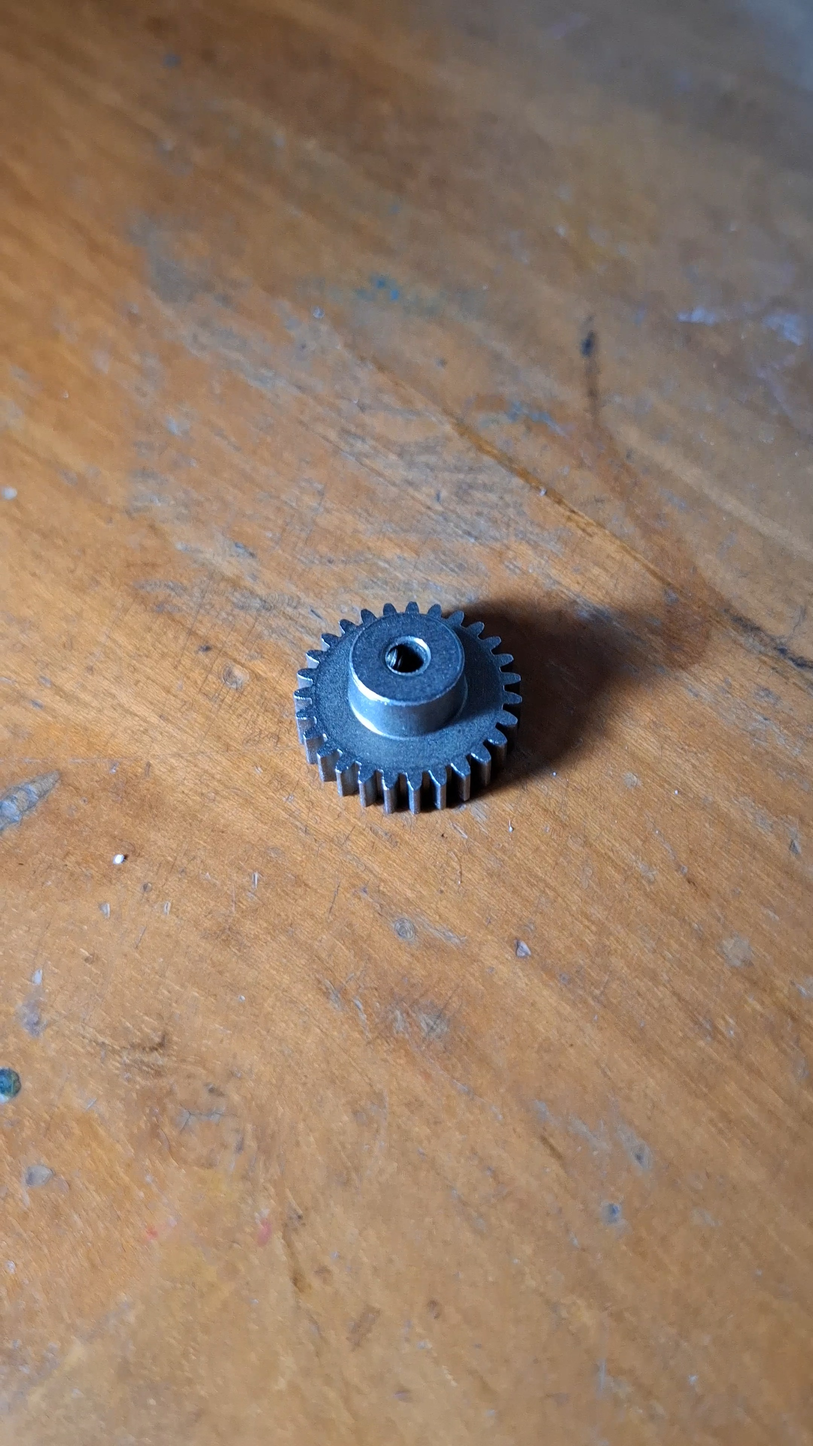spur gear: (294, 603, 521, 812)
